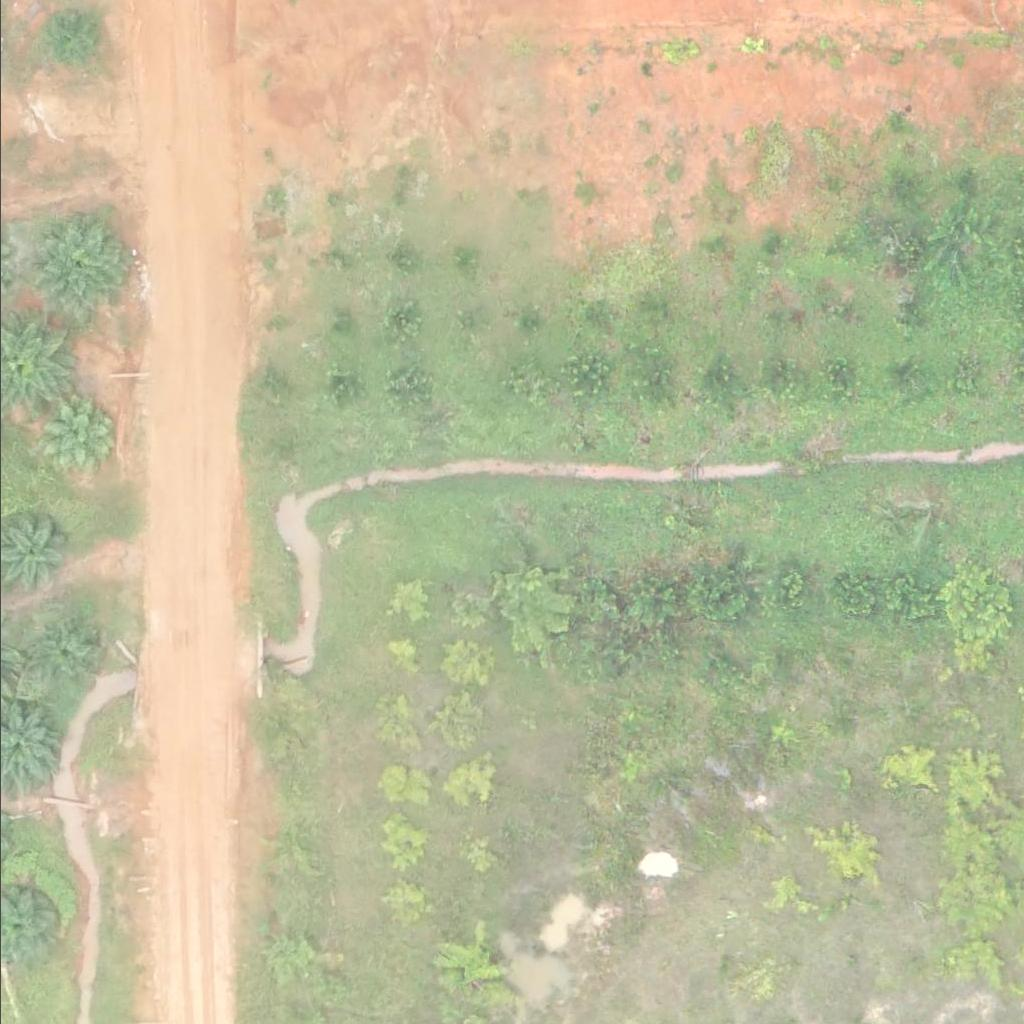Kelapa_Sawit: (25, 216, 126, 316), (29, 399, 117, 486), (30, 624, 93, 686)
